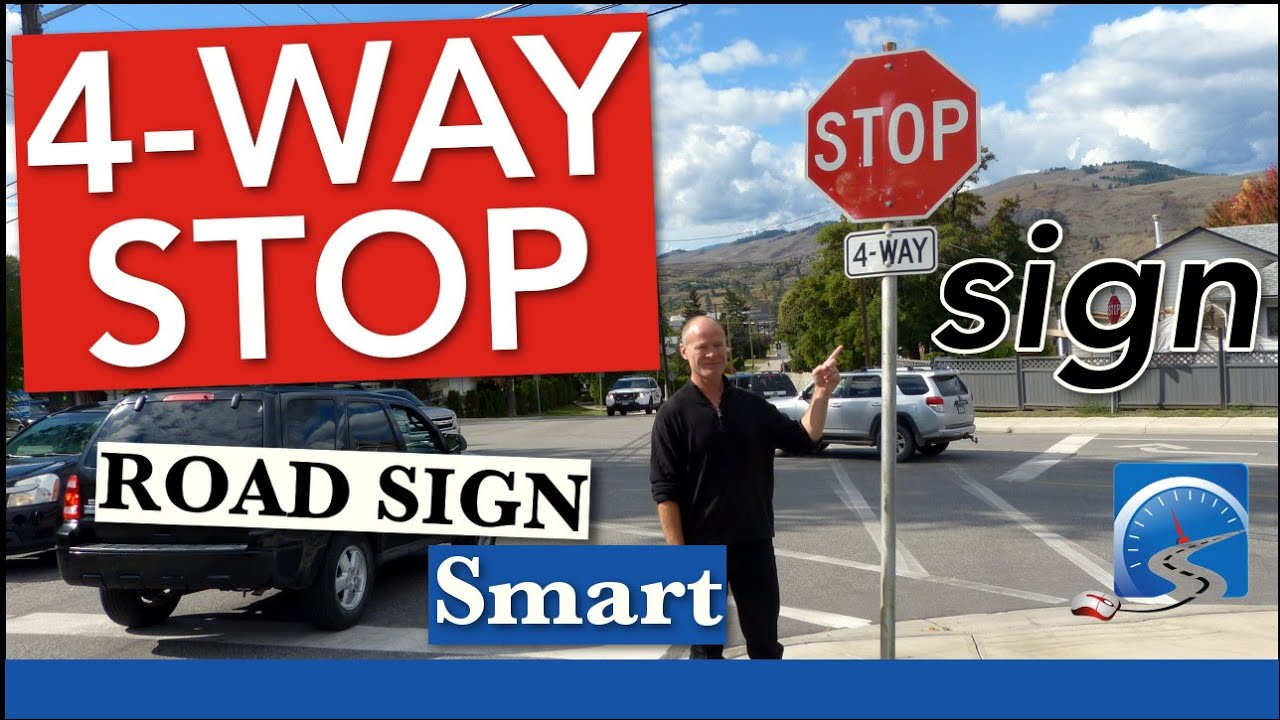stopsign: (802, 45, 982, 222)
